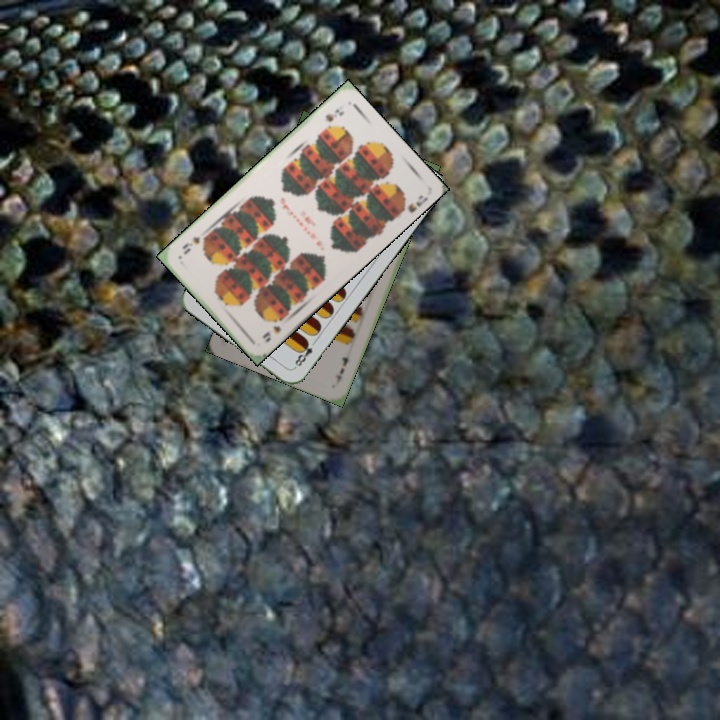E7: (331, 353, 351, 386)
E8: (290, 336, 319, 371)
S9: (258, 312, 287, 345), (321, 104, 346, 125)
